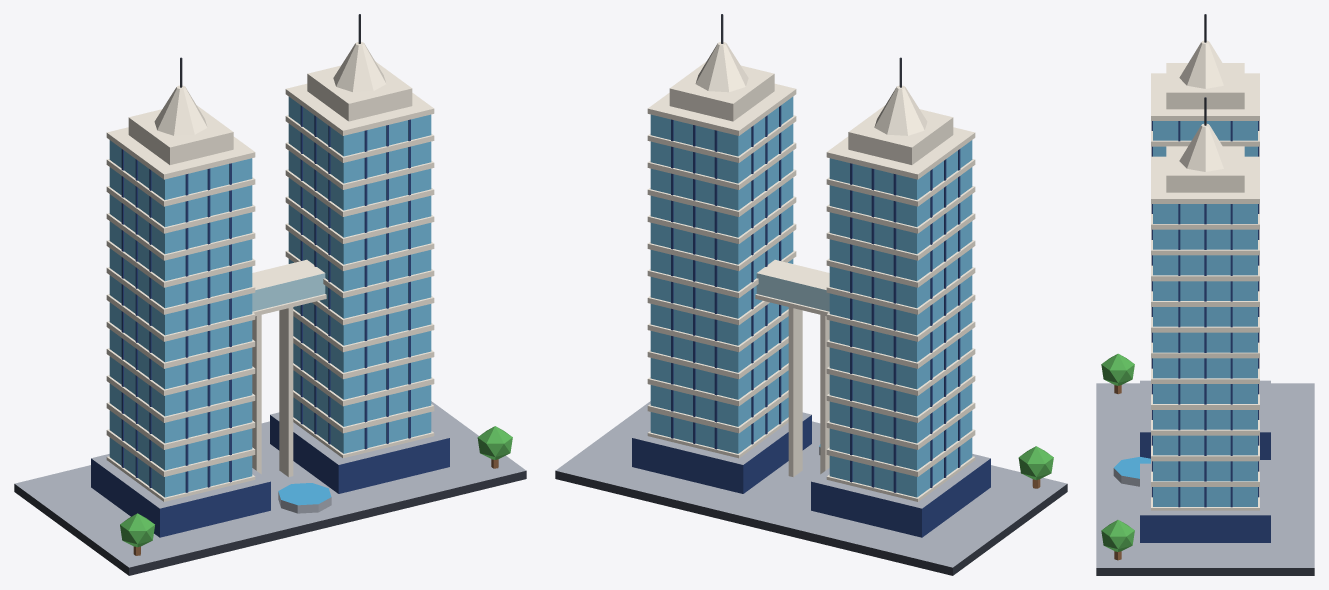
The model's file is office_twin.glb.
3 views of the same model, side by side, from view 1: azimuth 30°, elevation 25°; view 2: azimuth 150°, elevation 25°; view 3: azimuth 270°, elevation 25° (orthographic). The views are drawn at different scales.
Parts seen in each view (by area): view 1: office_twin; view 2: office_twin; view 3: office_twin.
Part boxes in pixels (left/top/right/bottom): office_twin: left=14, top=14, right=526, bottom=575; office_twin: left=555, top=14, right=1067, bottom=575; office_twin: left=1096, top=14, right=1314, bottom=575.
Size of the model in its own units: 2 by 2.16 by 1.
